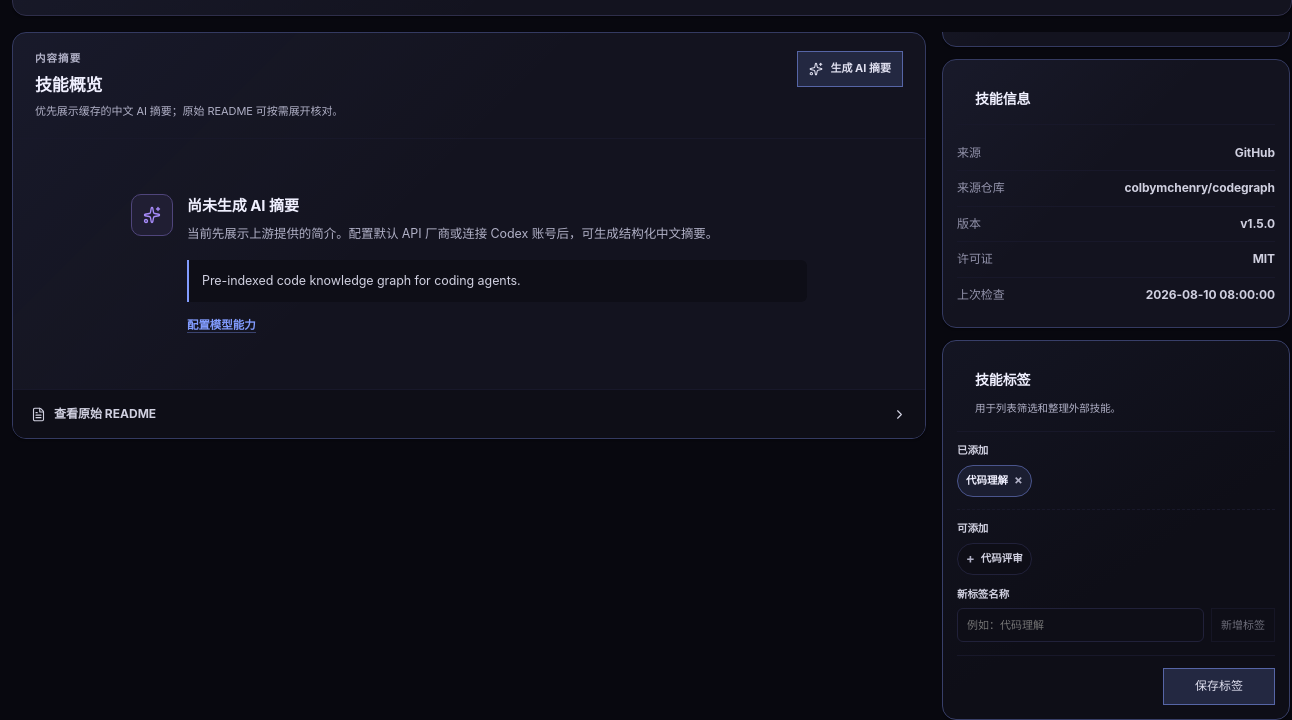
it: external skill reader › 可选择已有标签并保存
This screenshot has width=1292, height=720.
(page scrolled)
Click the button with aria-label "添加标签：代码评审" at (994, 559), box [957,543,1032,575]
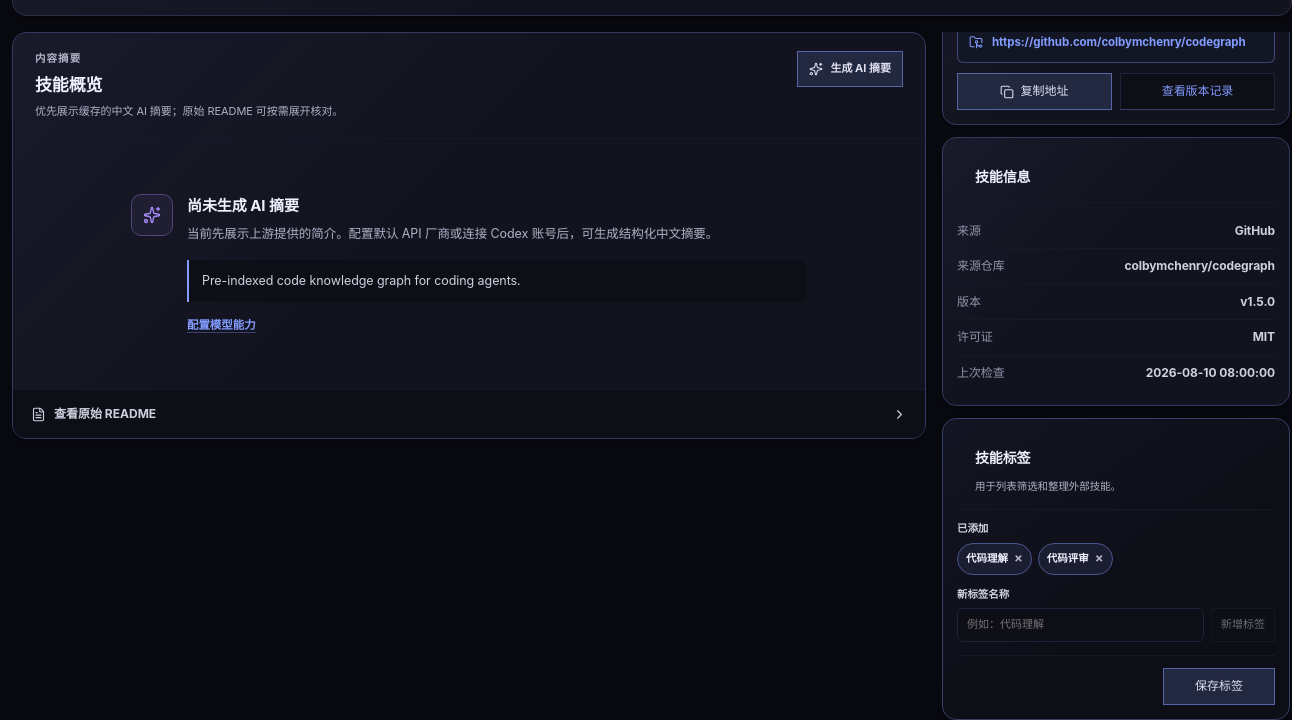
Click the button "保存标签" at (1219, 686), box [1163,668,1275,705]
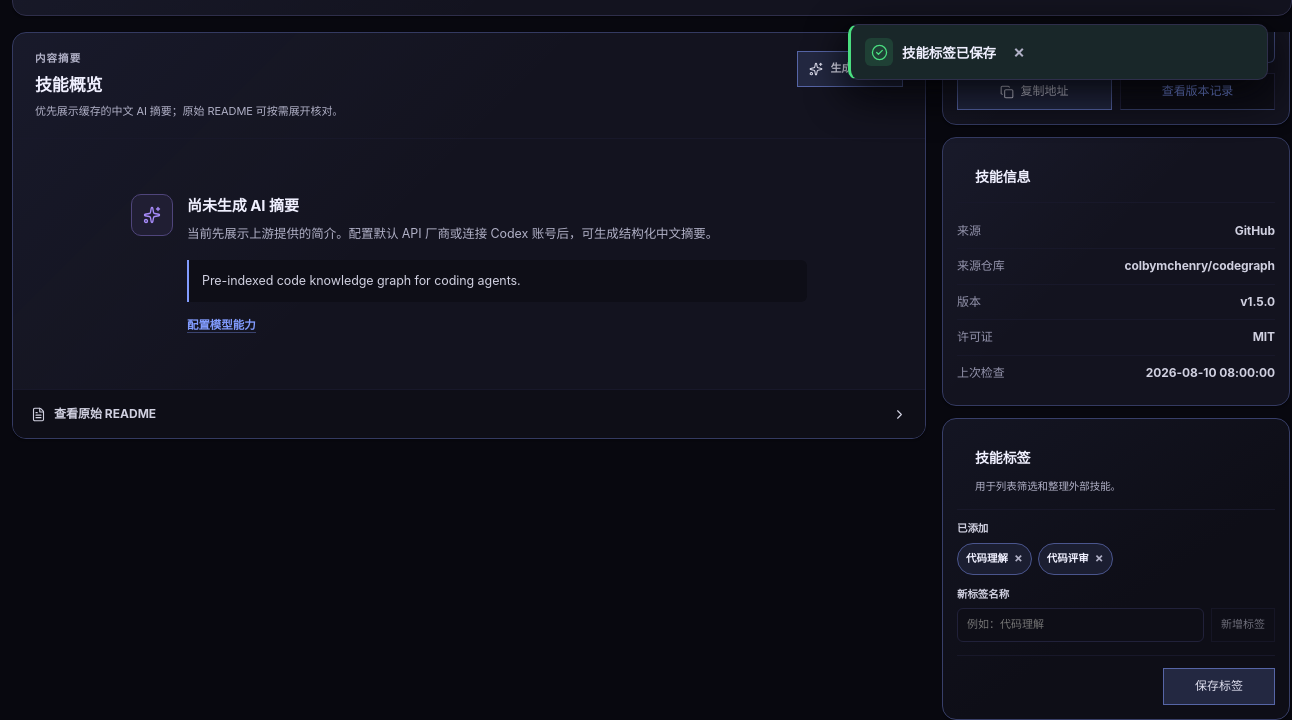
Expected: the text "技能标签已保存" is shown, [902,40,996,64]
